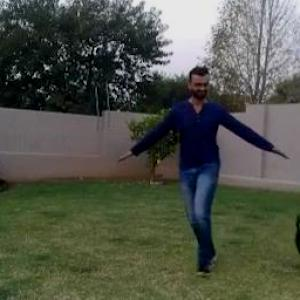land: (117, 76, 284, 260)
